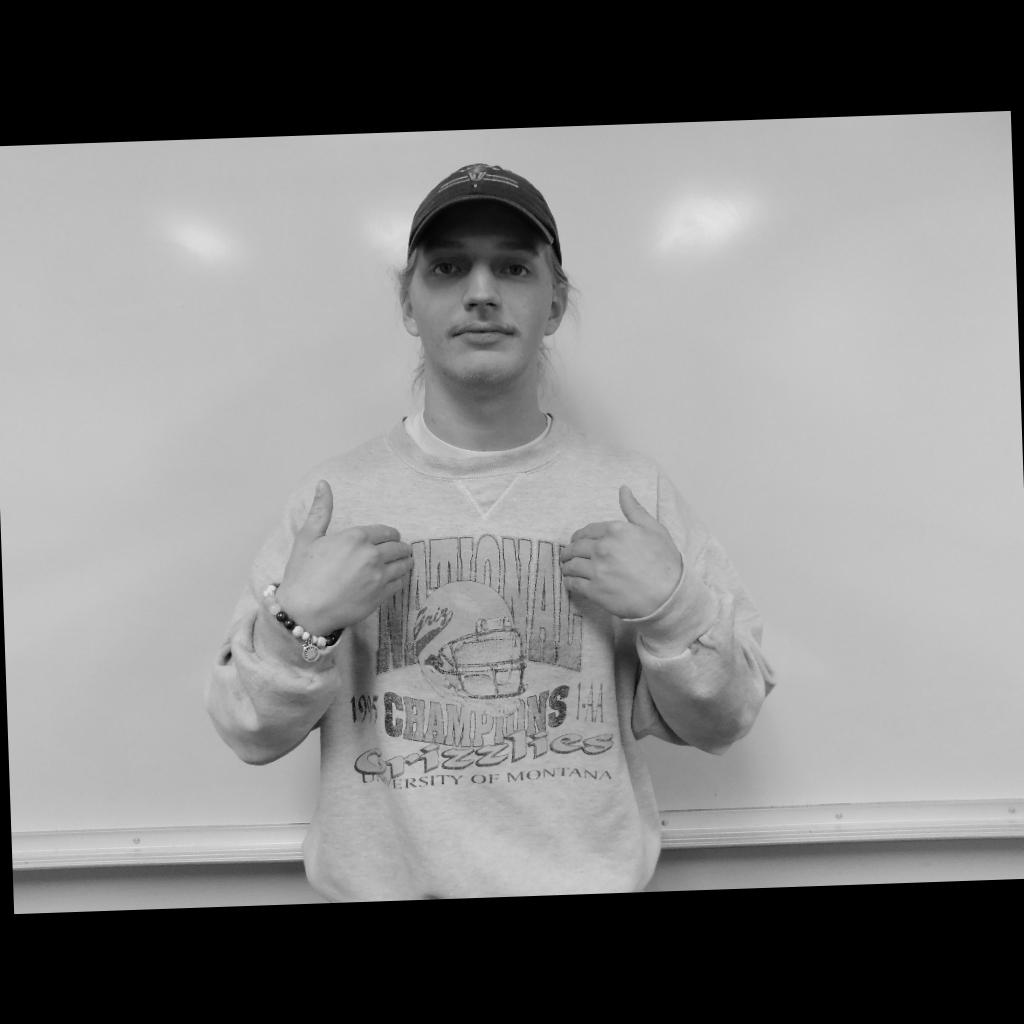have: (279, 466, 681, 630)
